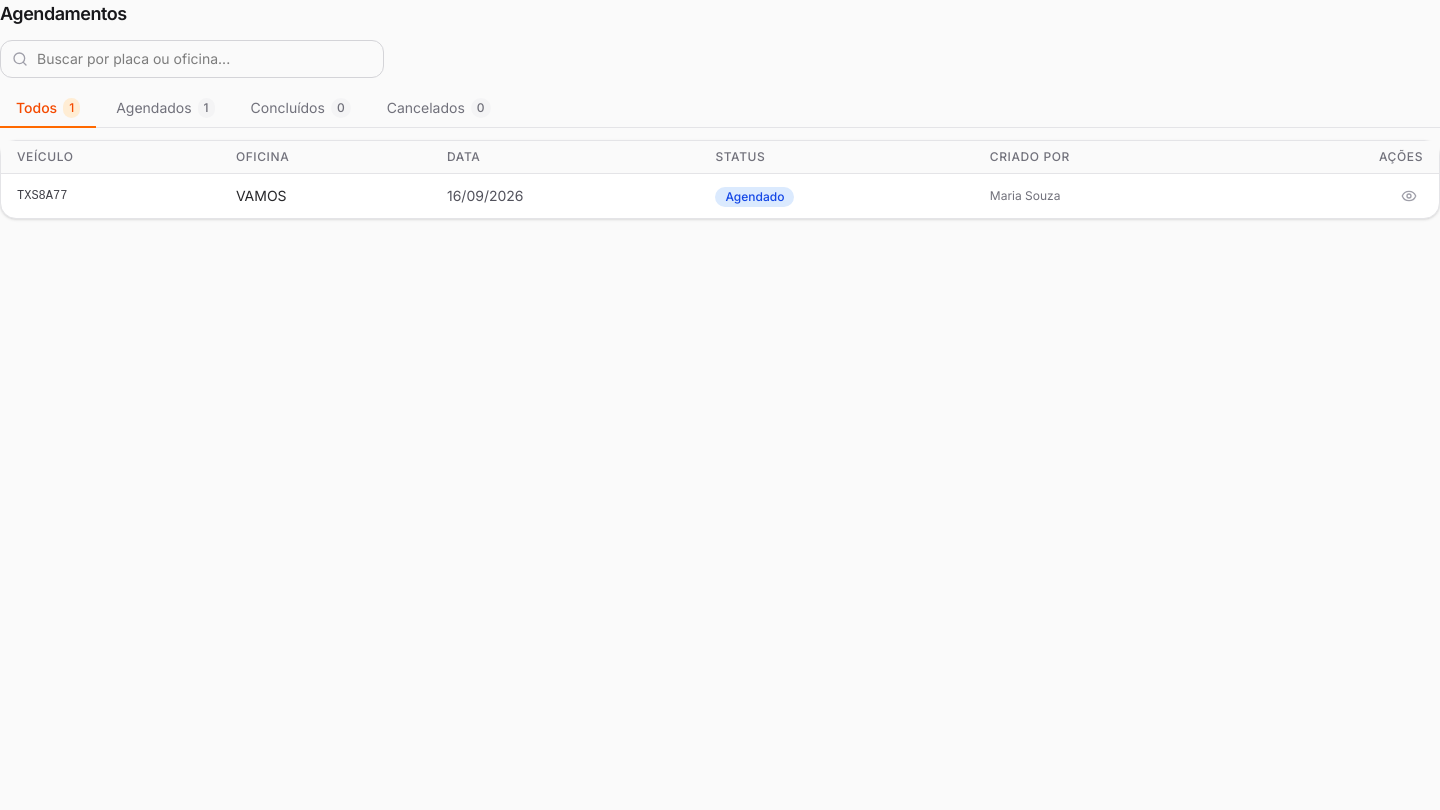
Test: WorkshopSchedules.detailModal › abrir o modal exibe o endereço completo da oficina e as observações do time de frota
Click the button named "Ver detalhes do agendamento" at (1409, 196), box [1395,182,1423,210]
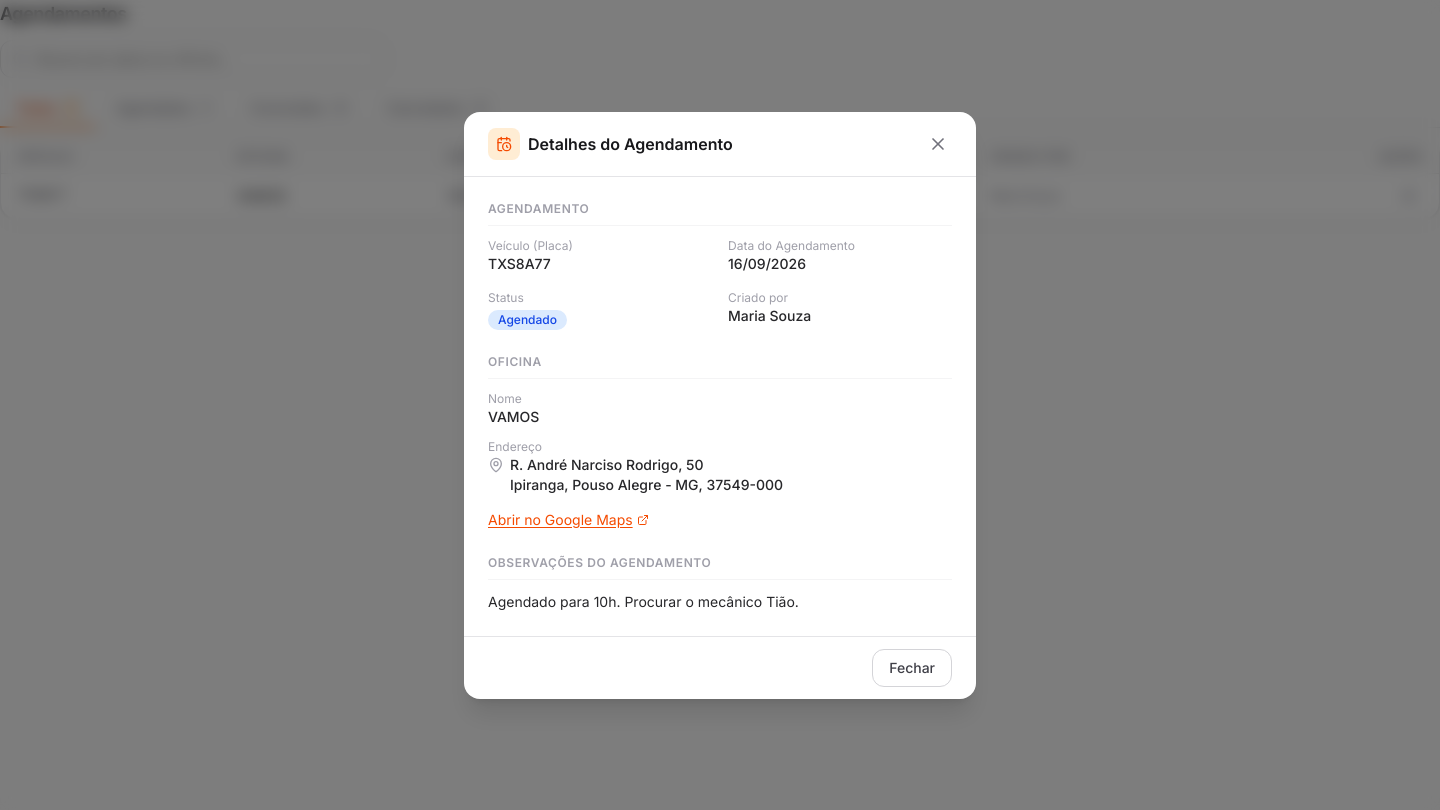
Check: the text "R. André Narciso Rodrigo, 50" is shown, box [510,456,783,492]
Check: the text "Ipiranga, Pouso Alegre - MG, 37549-000" is shown, box [510,456,783,492]
Check: the text "Agendado para 10h. Procurar o mecânico Tião." is shown, box [488,592,799,610]
